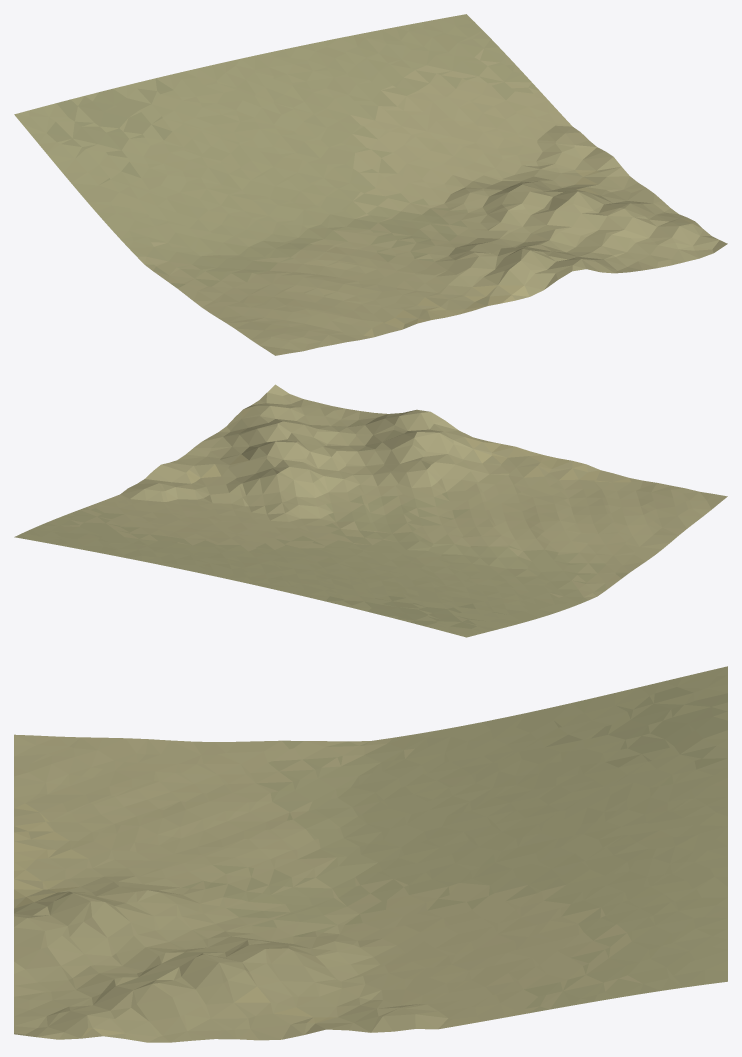
The model's file is Ground_-2_-9.glb.
3 renders of one model, top to bottom at view 1: azimuth 30°, elevation 25°; view 2: azimuth 150°, elevation 25°; view 3: azimuth 270°, elevation 25°, orthographic. The views are drawn at different scales.
Visible parts, largest first — view 1: Ground_-2_-9; view 2: Ground_-2_-9; view 3: Ground_-2_-9.
Boxes of the visible parts, x1=… form: Ground_-2_-9: x1=14, y1=14, x2=727, y2=355; Ground_-2_-9: x1=14, y1=384, x2=727, y2=637; Ground_-2_-9: x1=14, y1=666, x2=727, y2=1042.
Bounding box in the file's own units: 768 × 94.07 × 768.
